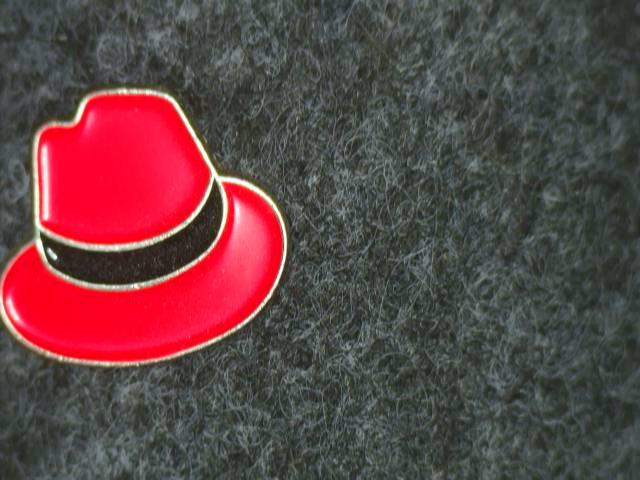Red-Hat: (0, 60, 298, 392)
